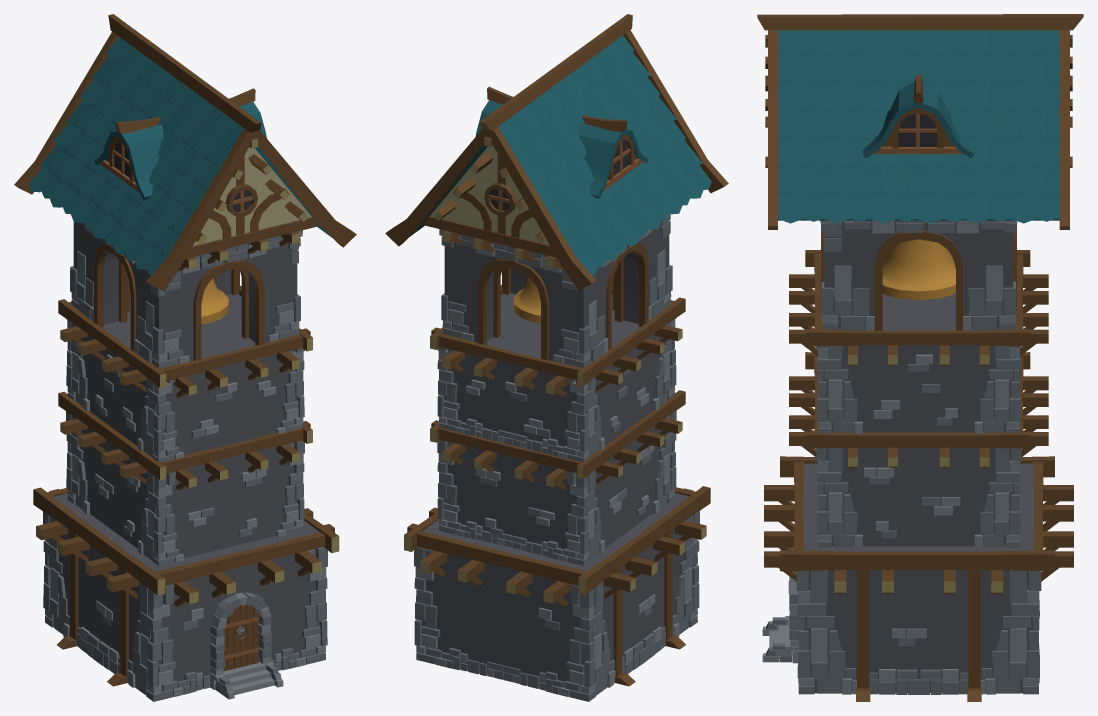
The model's file is chapel.glb.
The picture shows the model from 3 angles, left to right: view 1: azimuth 30°, elevation 25°; view 2: azimuth 150°, elevation 25°; view 3: azimuth 270°, elevation 25°; orthographic projection. The views are drawn at different scales.
Parts seen in each view (by area): view 1: Bell_Tower; view 2: Bell_Tower; view 3: Bell_Tower.
Part boxes in pixels (left/top/right/bottom): Bell_Tower: left=14, top=14, right=356, bottom=701; Bell_Tower: left=385, top=14, right=728, bottom=701; Bell_Tower: left=757, top=14, right=1083, bottom=701.
Size of the model in its own units: 4.88 by 12 by 5.62.
Materials: 1 (1 with a texture image).
